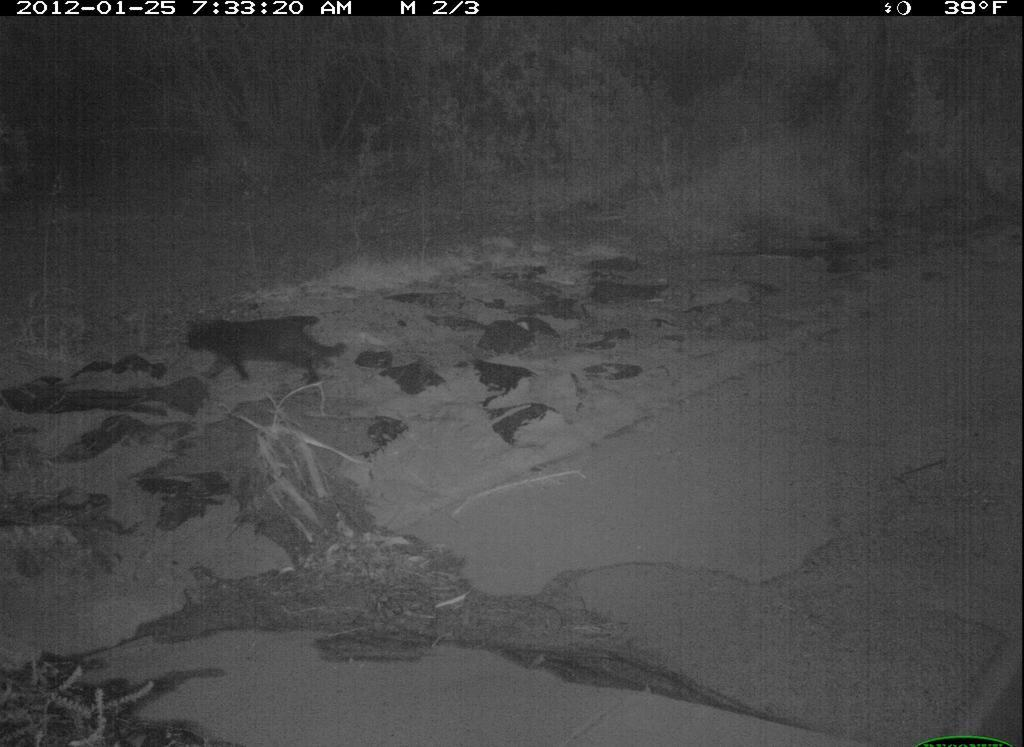cat: (184, 312, 344, 393)
